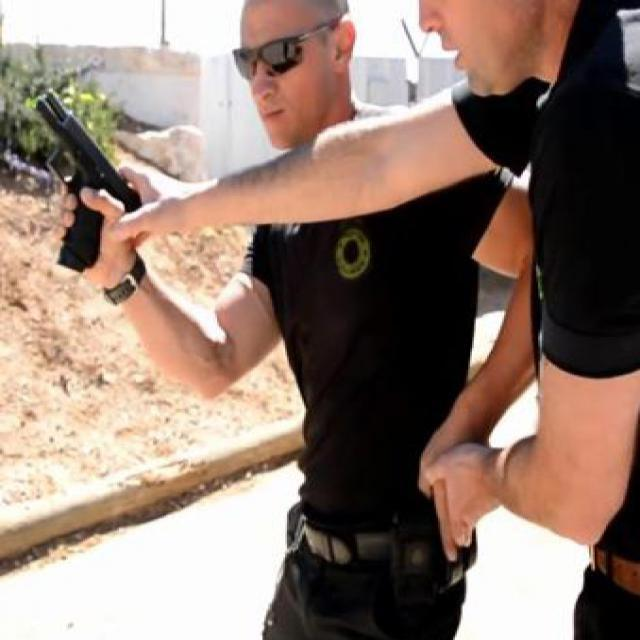weapon: (33, 84, 144, 274)
